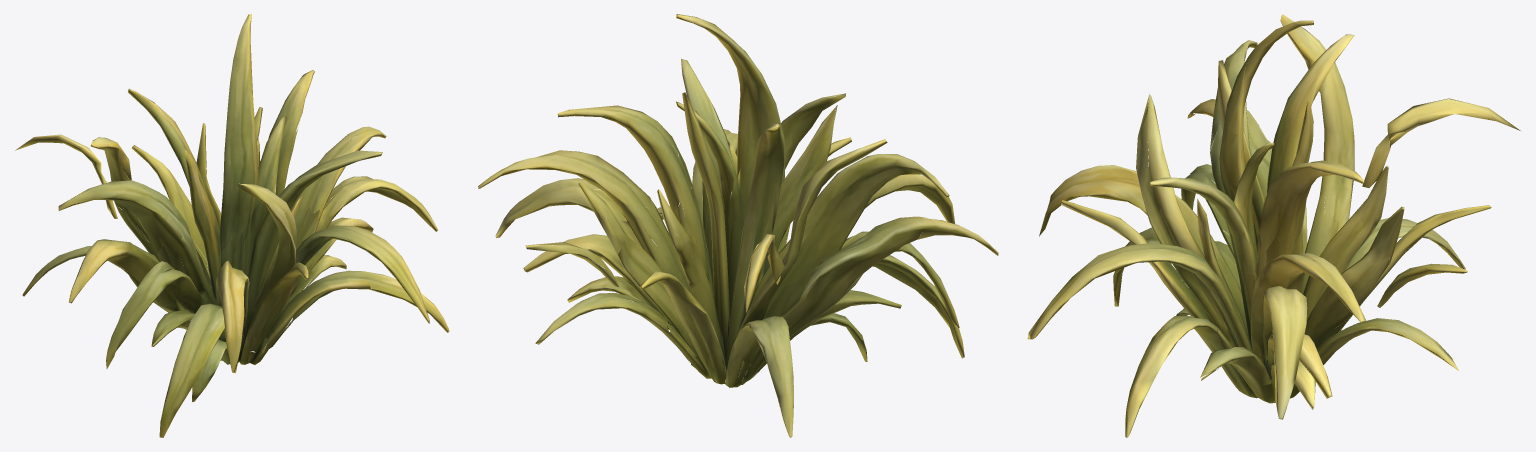
File: grass-v1.glb
The picture shows the model from 3 angles, left to right: view 1: azimuth 30°, elevation 25°; view 2: azimuth 150°, elevation 25°; view 3: azimuth 270°, elevation 25°; orthographic projection. The views are drawn at different scales.
Visible parts, largest first — view 1: grass; view 2: grass; view 3: grass.
Boxes of the visible parts, x1=… form: grass: x1=15, y1=14, x2=449, y2=437; grass: x1=478, y1=14, x2=998, y2=437; grass: x1=1027, y1=14, x2=1520, y2=437.
Size of the model in its own units: 0.8497 by 0.6483 by 0.7486.
Materials: 1 (1 with a texture image).
